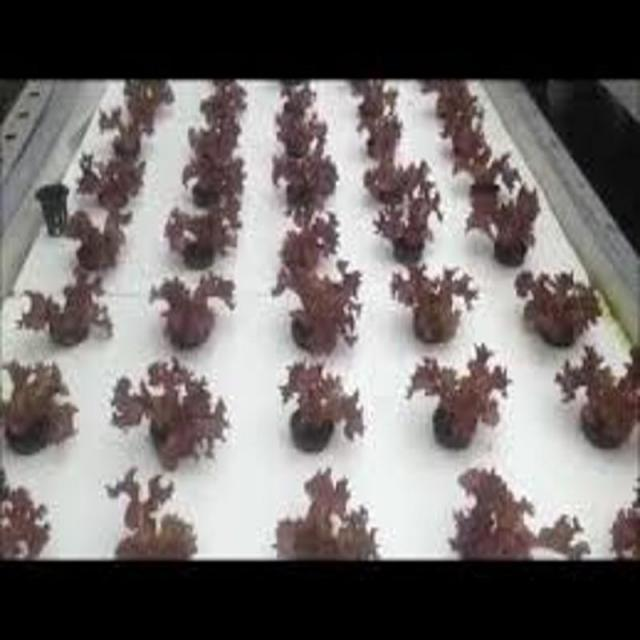Lettuce: (443, 462, 587, 563), (396, 342, 532, 448), (253, 463, 395, 562), (110, 357, 230, 470), (102, 460, 213, 563), (560, 340, 640, 468), (262, 260, 366, 355), (8, 275, 124, 357), (270, 360, 365, 452), (147, 272, 248, 355), (2, 352, 78, 460), (382, 262, 488, 338), (518, 270, 607, 345), (370, 185, 448, 267), (475, 182, 545, 268), (177, 137, 255, 208), (0, 468, 55, 568), (267, 142, 340, 215), (163, 202, 242, 268), (62, 208, 140, 274), (70, 150, 145, 208)
